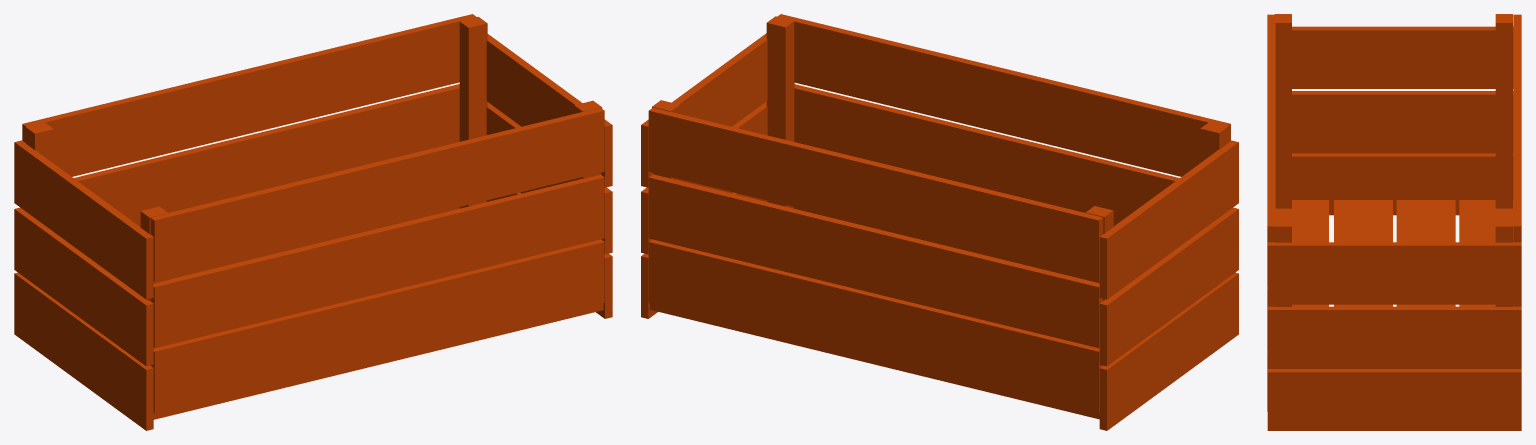
Rendered from big_wodden_case.obj.
3 views of the same model, side by side, from view 1: azimuth 30°, elevation 25°; view 2: azimuth 150°, elevation 25°; view 3: azimuth 270°, elevation 25° (orthographic). The views are drawn at different scales.
Parts seen in each view (by area): view 1: big_wodden_case; view 2: big_wodden_case; view 3: big_wodden_case.
Boxes of the visible parts, x1,y1,x2,y2 form: big_wodden_case: (14, 14, 612, 430); big_wodden_case: (641, 14, 1238, 430); big_wodden_case: (1267, 14, 1521, 430).
Size of the model in its own units: 1.02 by 0.437 by 0.501.
